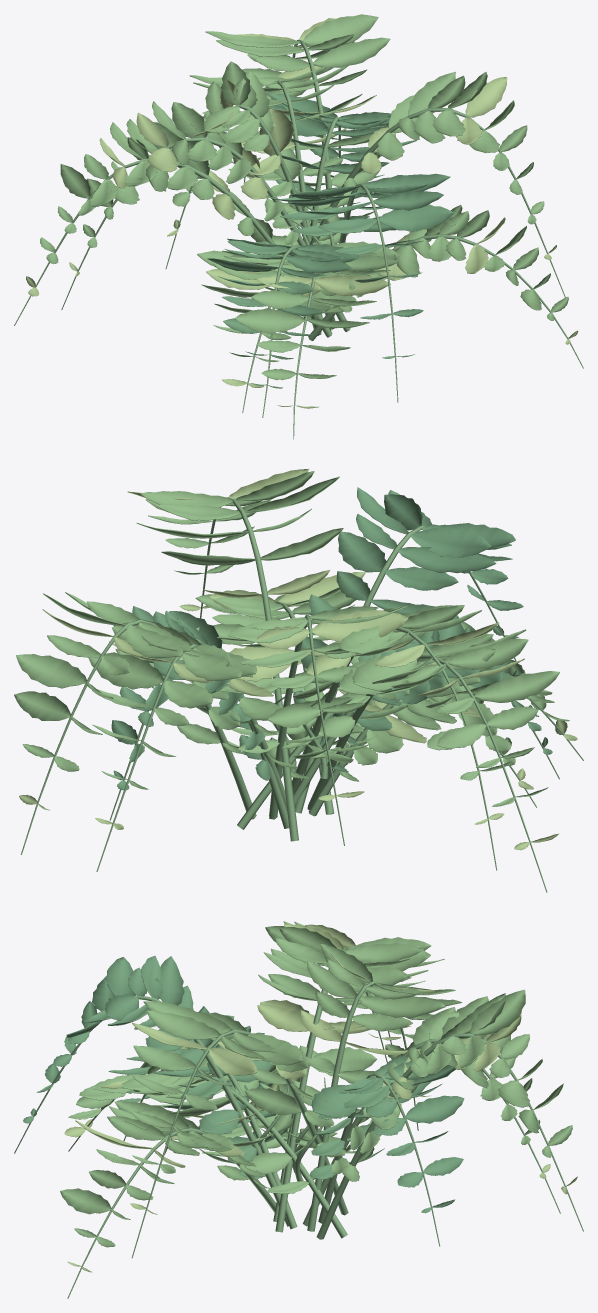
The picture shows the model from 3 angles, top to bottom: view 1: azimuth 30°, elevation 25°; view 2: azimuth 150°, elevation 25°; view 3: azimuth 270°, elevation 25°; orthographic projection. The views are drawn at different scales.
Visible parts, largest first — view 1: fern_shade; view 2: fern_shade; view 3: fern_shade.
Boxes of the visible parts, x1,y1,x2,y2 form: fern_shade: (14, 14, 583, 439); fern_shade: (14, 469, 583, 892); fern_shade: (14, 921, 583, 1298).
Bounding box in the file's own units: 1.31 × 0.6821 × 1.43.
